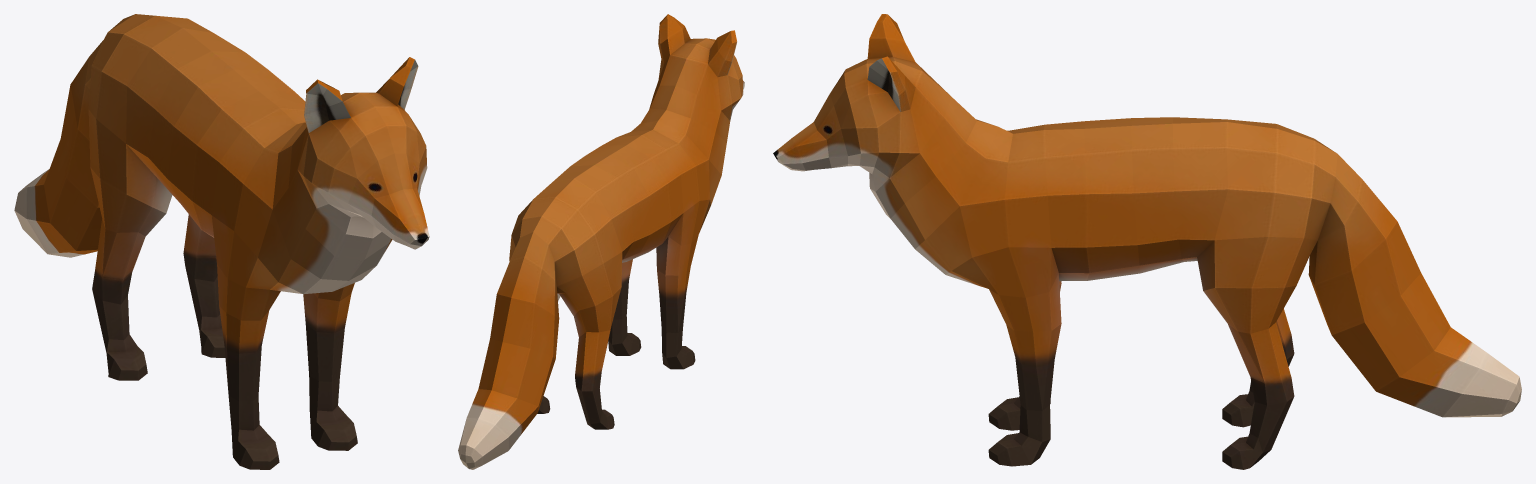
Rendered from toyFox.glb.
The picture shows the model from 3 angles, left to right: view 1: azimuth 30°, elevation 25°; view 2: azimuth 150°, elevation 25°; view 3: azimuth 270°, elevation 25°; orthographic projection. The views are drawn at different scales.
Parts seen in each view (by area): view 1: Fox_Mesh; view 2: Fox_Mesh; view 3: Fox_Mesh.
Boxes of the visible parts, left/top/right/bottom form: Fox_Mesh: left=14, top=14, right=429, bottom=469; Fox_Mesh: left=458, top=14, right=744, bottom=469; Fox_Mesh: left=773, top=14, right=1521, bottom=469.
Size of the model in its own units: 1.28 by 3.84 by 6.44.
Materials: 1 (1 with a texture image).
